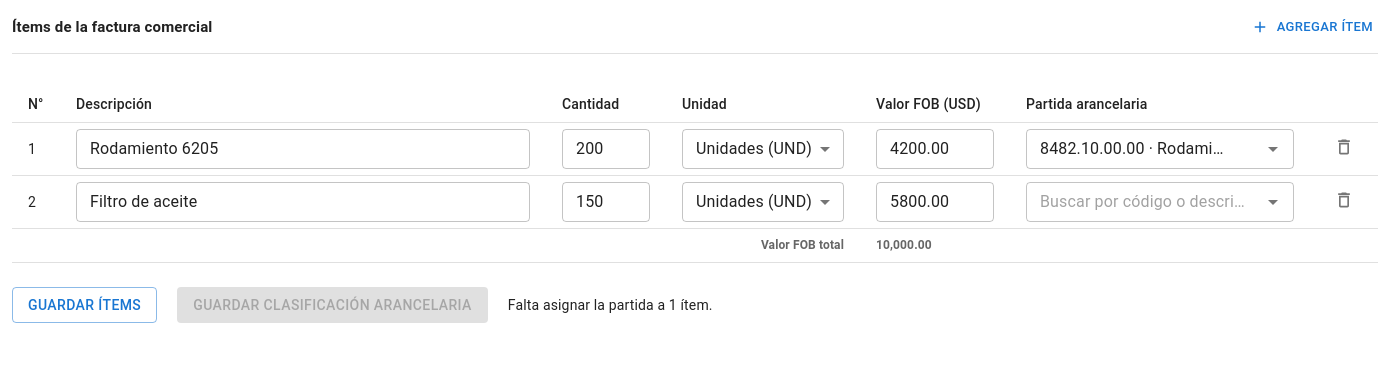
ClasificacionDespacho (HU-07) › CA2 y CA4: asigna la partida, guarda los ítems y registra la clasificación
Step 1. Type "filtro" into the dropdown named "Partida arancelaria del ítem 2" → (1144, 202), box [1032, 188, 1255, 216]
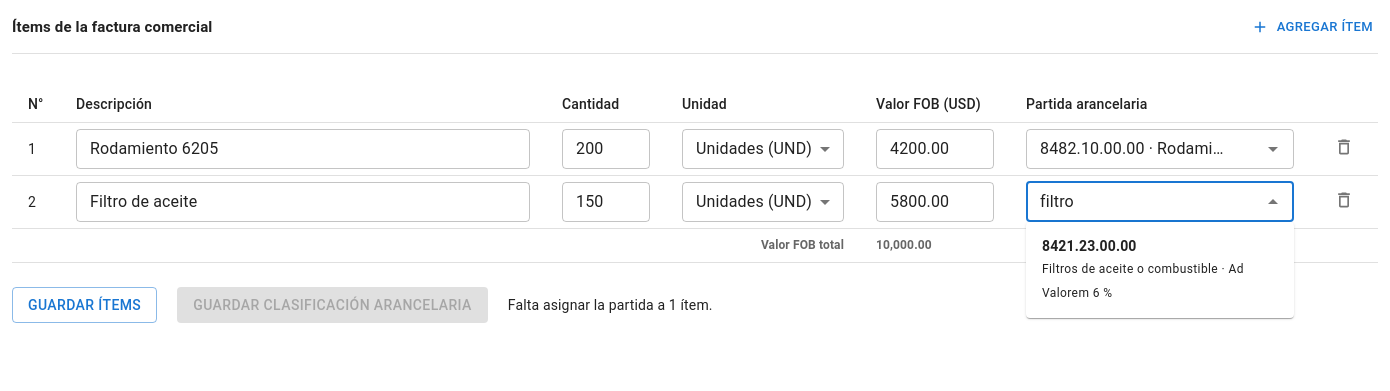
Step 2. Click the option "8421.23.00.00" → click(1143, 269), box [1042, 238, 1244, 300]
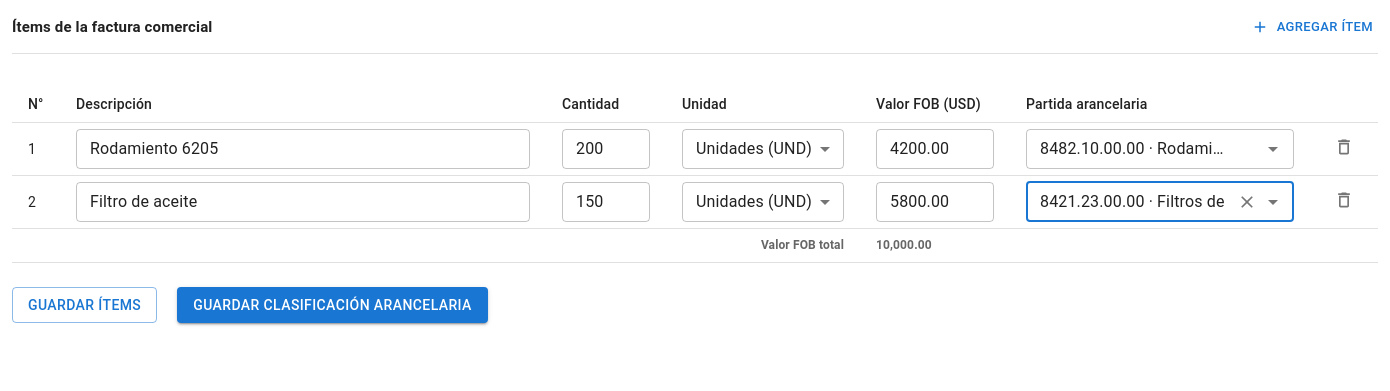
Step 3. Click the button "Guardar clasificación arancelaria" → click(332, 305), box [177, 287, 488, 323]
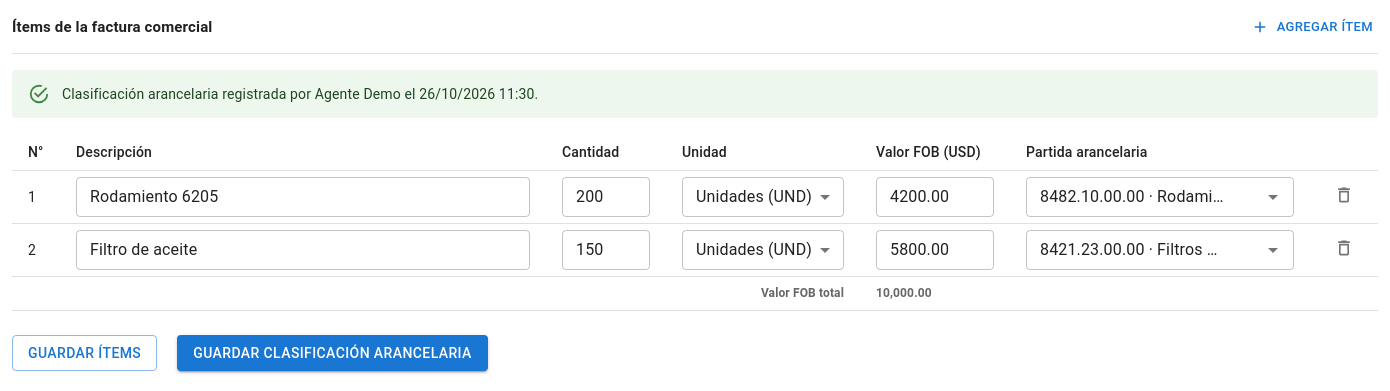
Expected: the text "registrada por Agente Demo el 26/10/2026 11:30" is shown, [62, 86, 538, 102]
